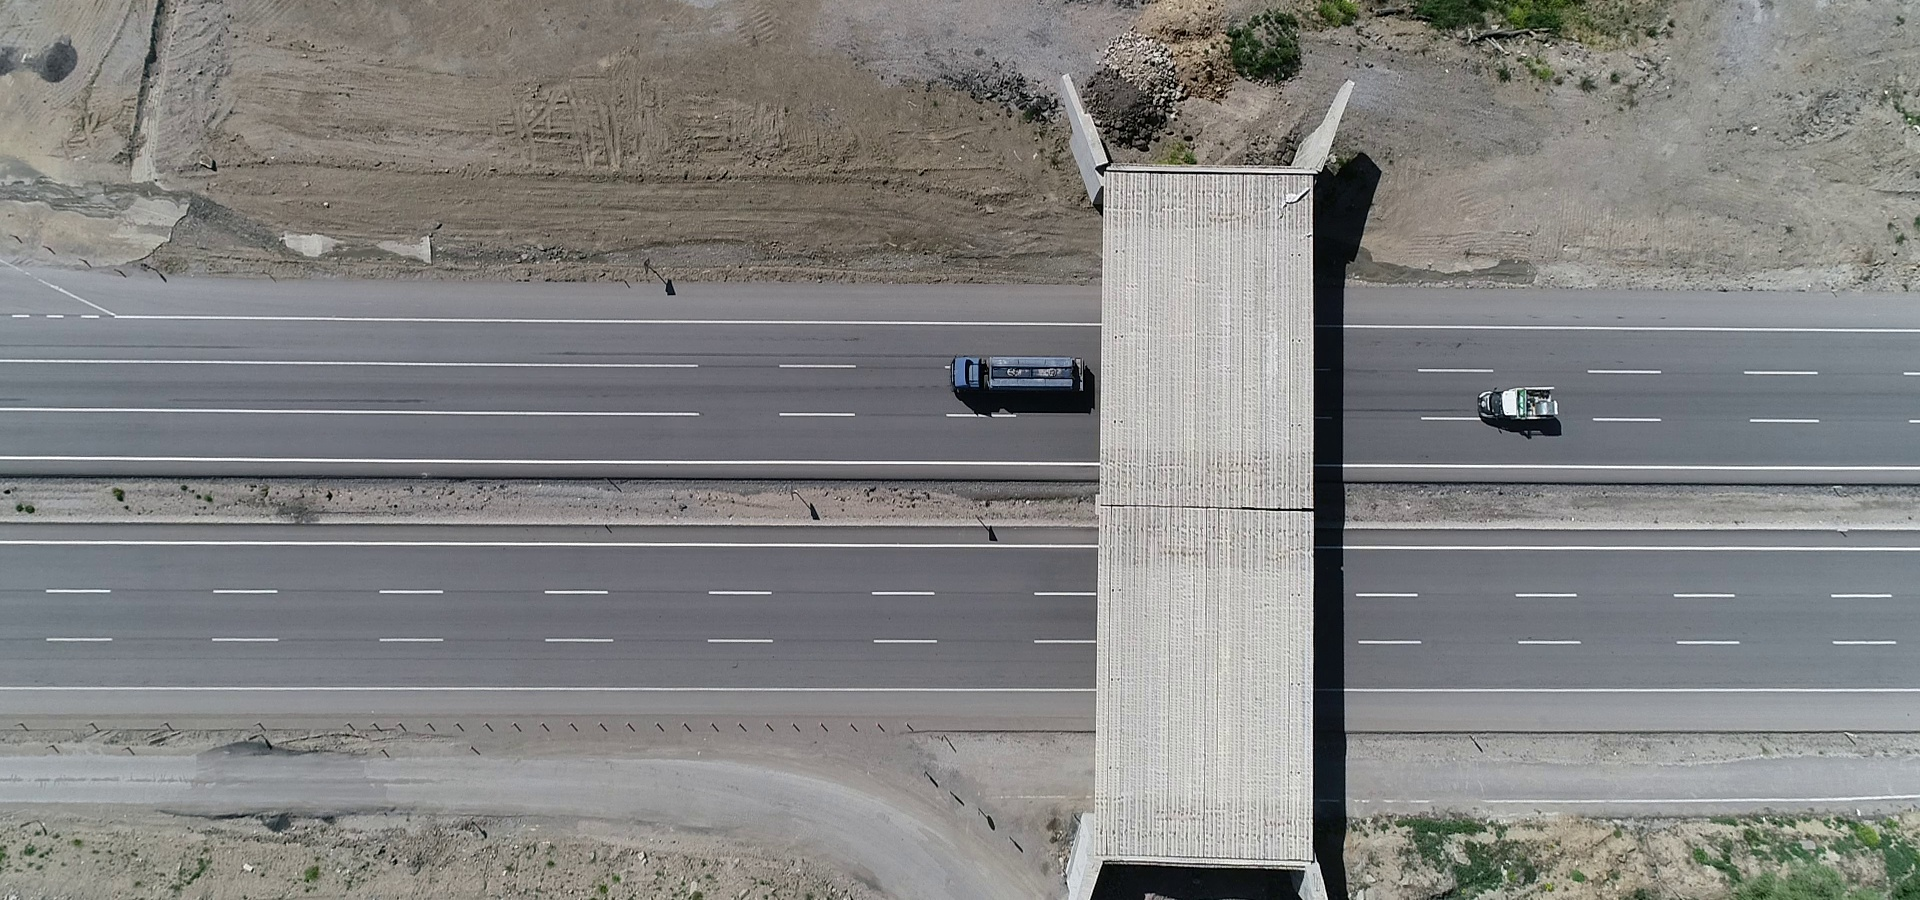arac: (947, 356, 1089, 404), (1473, 381, 1566, 429)
